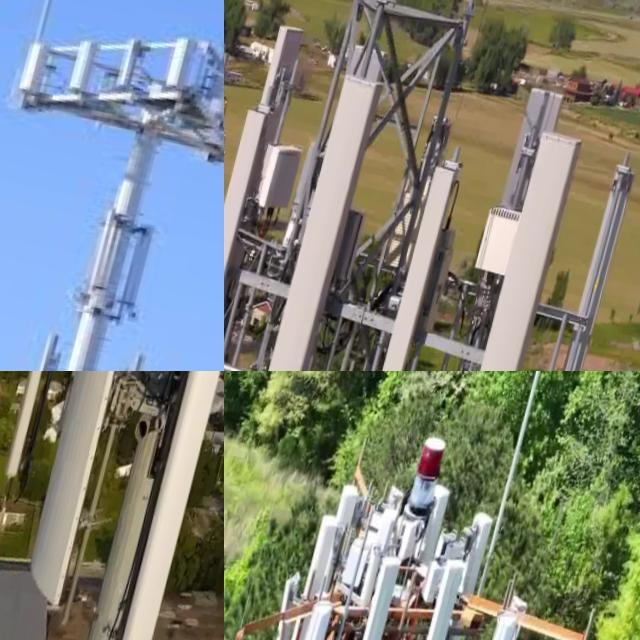GSM Antenna: (245, 67, 389, 371), (13, 371, 195, 608), (437, 118, 591, 371), (458, 73, 570, 371), (103, 371, 224, 640), (362, 159, 466, 371), (552, 151, 640, 371), (231, 18, 317, 230), (224, 100, 279, 371), (2, 371, 102, 476), (329, 535, 413, 640), (306, 480, 368, 601), (396, 548, 476, 640), (257, 567, 312, 640), (154, 35, 210, 106), (7, 32, 59, 100), (105, 37, 153, 102), (60, 33, 109, 94), (284, 593, 339, 640), (462, 601, 527, 640), (20, 326, 71, 371), (115, 348, 151, 371)
